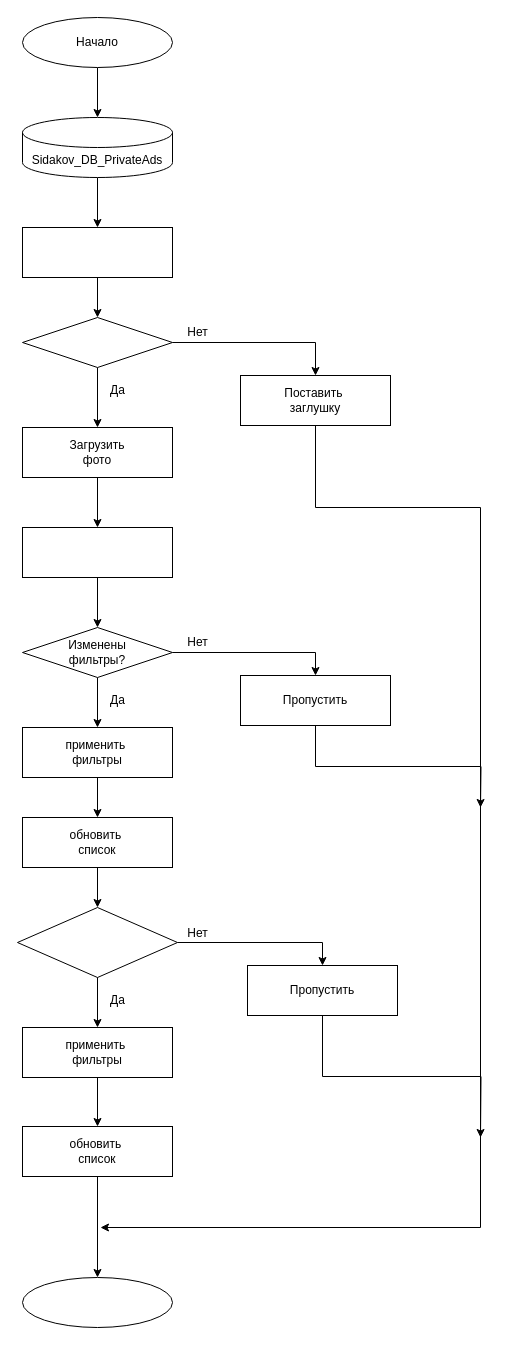
This 507x1345 diagram has some shape labels left out. Here are the shapes that lost their labels. From the top down, the box of each, then its label:
(22, 226, 172, 278): Получить список объявлений
(22, 316, 172, 368): Есть фото?
(22, 526, 172, 578): Отобразить объявления
(16, 906, 178, 978): введен текст в поиск?
(22, 1276, 172, 1328): Конец
